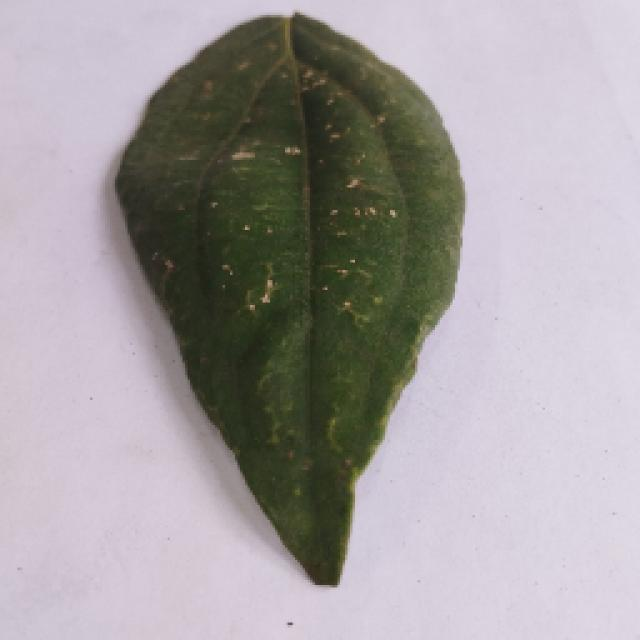pollu-disease: (88, 12, 490, 588)
